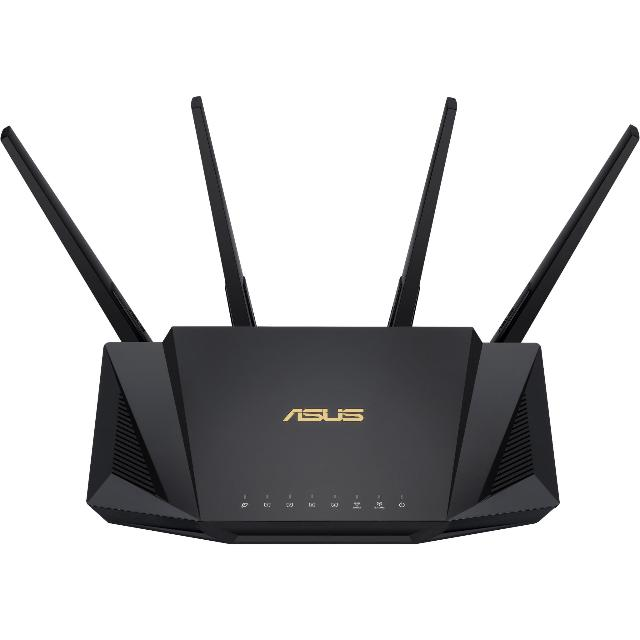Router: (0, 96, 640, 547)
